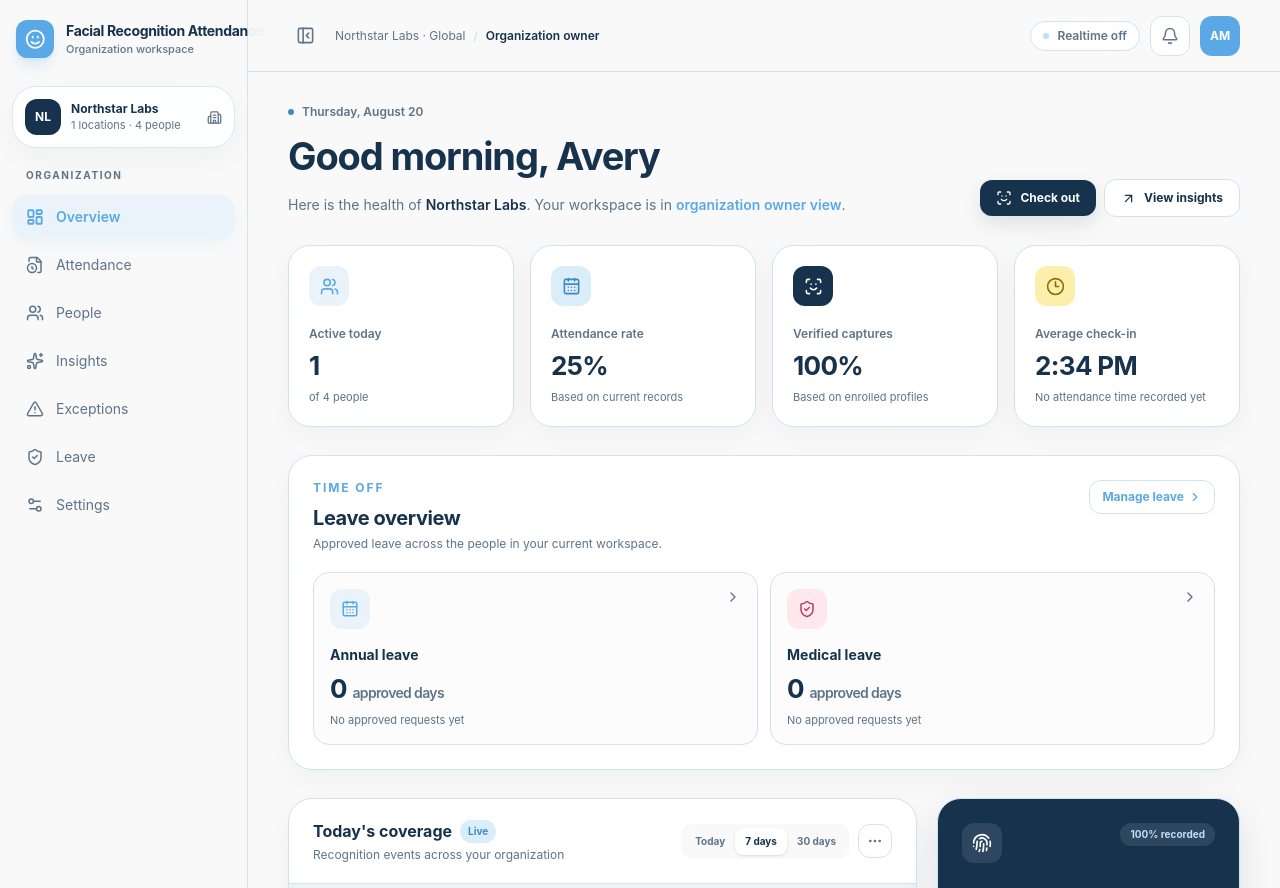
Test: organization workspace integration › routes an owner with an open check-in to check-out
The image size is (1280, 888).
Click the button "Check out" at coordinates (1038, 198), box [980,180,1096,216]
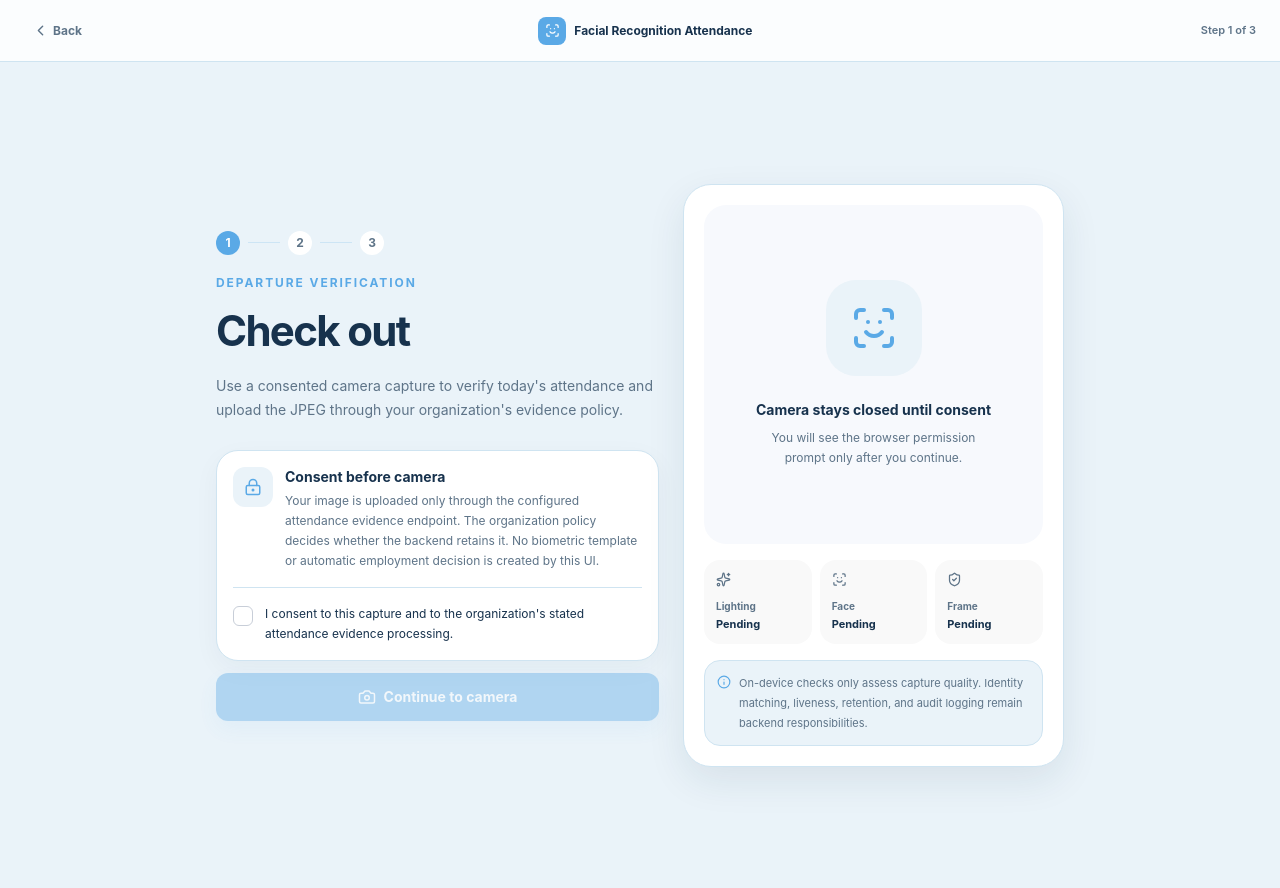
Result: the text "Departure verification" is shown at [216,274,417,290]
